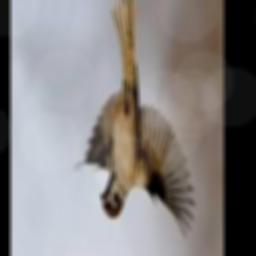Sparrow: (73, 0, 194, 241)
